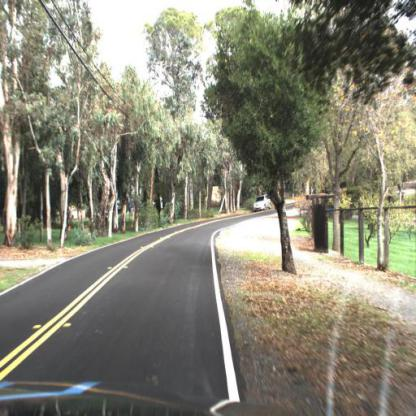car: (249, 189, 277, 214), (251, 190, 274, 217)
